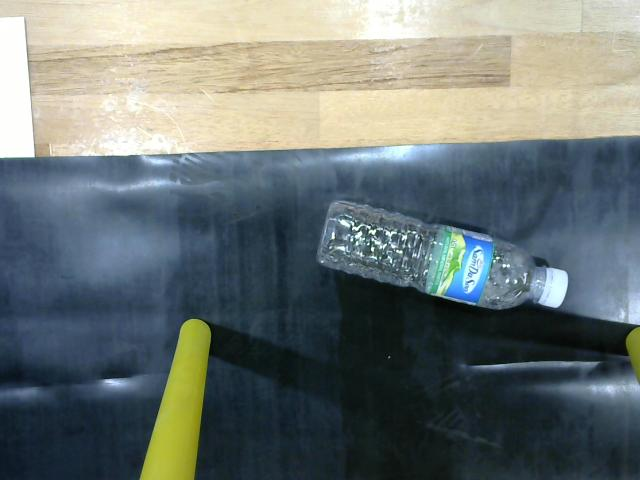bottle: (309, 191, 571, 314)
